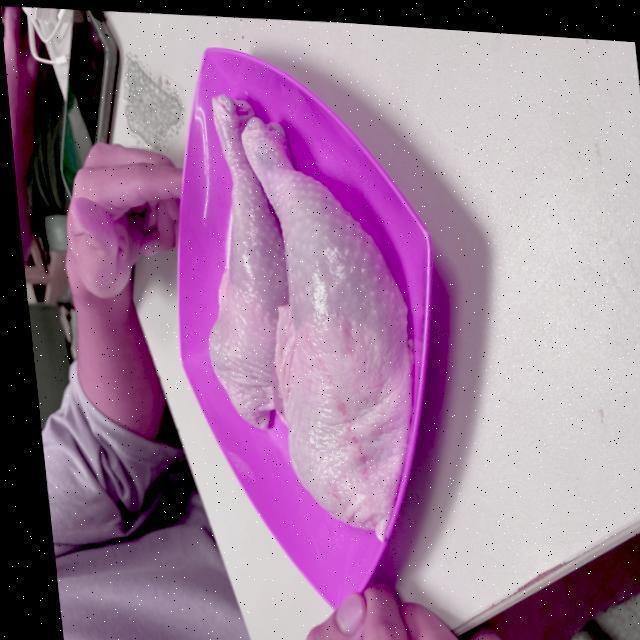quater: (249, 121, 409, 504), (196, 98, 297, 428)
